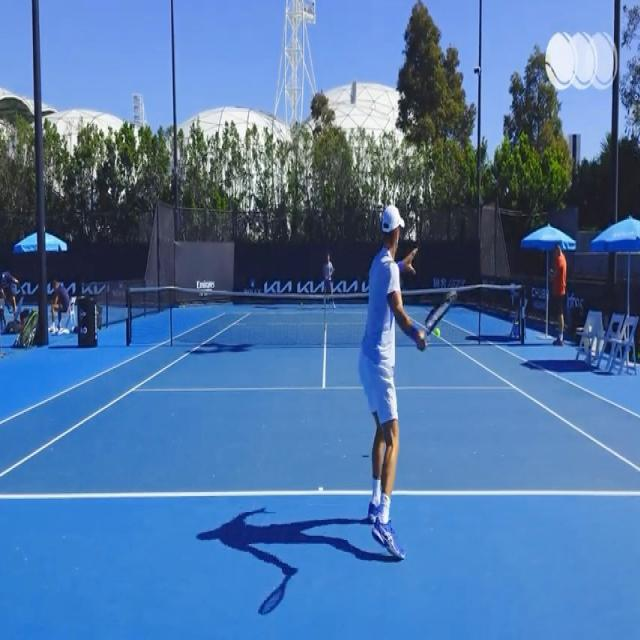forehand-stroke: (347, 190, 458, 560)
